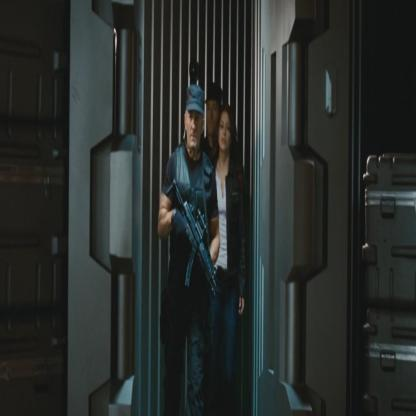gun: (165, 174, 227, 311)
